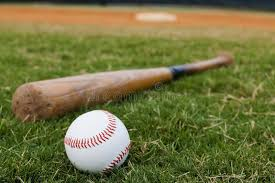baseball bat: (13, 52, 234, 122)
